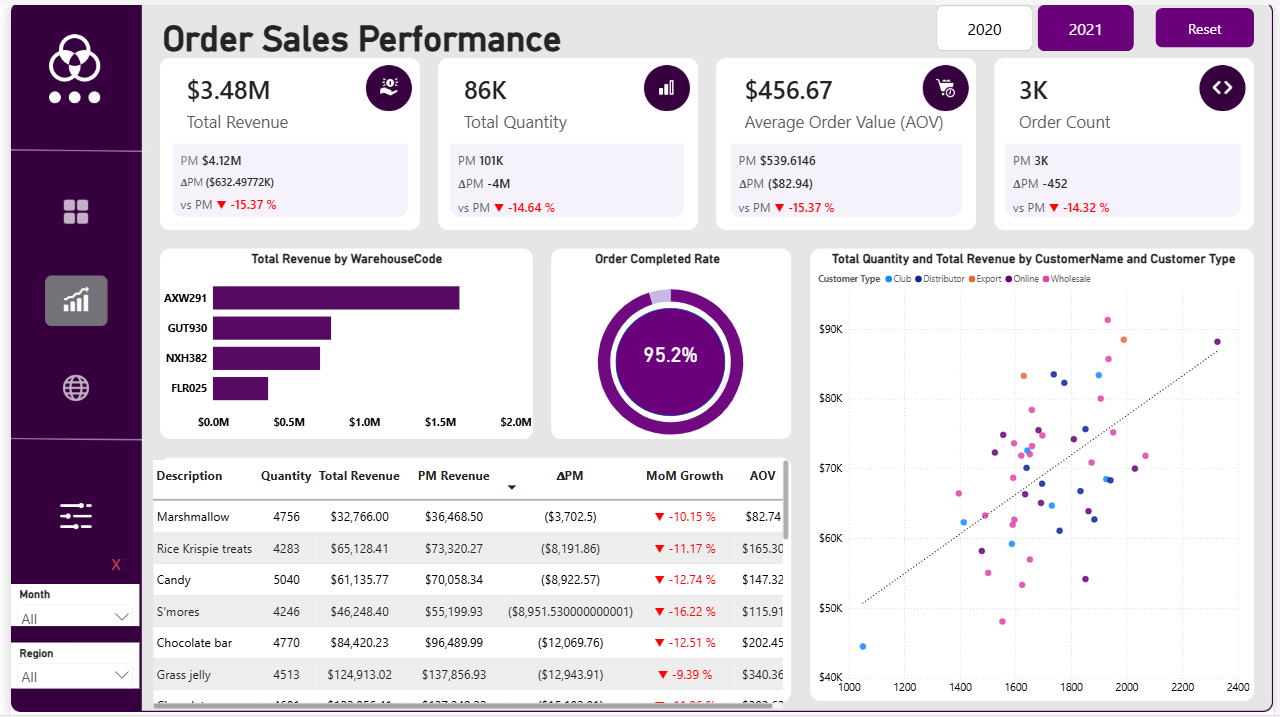

The page's visual inventory and layout, read from the dashboard file:
{"tool":"powerbi","page":{"name":"Performance","canvas":[1920,1080],"ordinal":1},"visuals":[{"type":"clusteredBarChart","fields":{"Y":["Calculated Measures.Total Revenue"],"Category":["Order_DIM.WarehouseCode"]},"box":[226.7,374.6,570.2,281.5],"z":0},{"type":"actionButton","box":[33.5,527.2,149.3,115.8],"z":0,"group":"g2"},{"type":"slicer","fields":{"Values":["Date.Month"]},"box":[0,880.8,195,64],"z":0,"group":"g1"},{"type":"scatterChart","fields":{"X":["Calculated Measures.Total Quantity"],"Y":["Calculated Measures.Total Revenue"],"Category":["Customers_DIM.CustomerName"],"Series":["Customers_DIM.Customer Type"]},"box":[1224,374.6,665.7,684.8],"z":1000},{"type":"actionButton","box":[48.8,728.4,100.6,91.4],"z":1000,"group":"g2"},{"type":"slicer","fields":{"Values":["Region.Region"]},"box":[0,969.2,195,70.1],"z":1000,"group":"g1"},{"type":"actionButton","box":[26.4,399.6,155.1,90.7],"z":2000,"group":"g2"},{"type":"tableEx","fields":{"Values":["Order_DIM.ProductDescription","Calculated Measures.Total Quantity","Calculated Measures.Total Revenue","Calculated Measures.PM Revenue","Calculated Measures.Rev Var","Calculated Measures.MoM_Rev","Calculated Measures.Average Order Value (AOV)"]},"box":[210,687.1,978.2,388.9],"z":2000},{"type":"cardVisual","fields":{"Data":["Calculated Measures.Total Revenue"]},"box":[226.7,74,398.4,269.6],"z":3000},{"type":"actionButton","box":[35,257.4,150.3,105],"z":3000,"group":"g2"},{"type":"cardVisual","fields":{"Data":["Calculated Measures.Total Quantity"]},"box":[649,74,396.1,269.6],"z":4000},{"type":"cardVisual","fields":{"Data":["Calculated Measures.Order Count"]},"box":[1491.2,74,398.4,269.6],"z":5000},{"type":"cardVisual","fields":{"Data":["Calculated Measures.Average Order Value (AOV)"]},"box":[1073.7,74,391.3,269.6],"z":6000},{"type":"shape","box":[901.9,434.2,193.3,190.9],"z":7000},{"type":"shape","box":[918.6,460.5,167,164.6],"z":8000},{"type":"card","fields":{"Values":["Calculated Measures.Order Completed Rate"]},"box":[906.6,429.5,193.3,200.4],"z":9000},{"type":"donutChart","fields":{"Y":["Calculated Measures.Order Completed Rate","Calculated Measures.Order Cancelled Rate"]},"box":[816,398.4,372.2,281.5],"z":10000},{"type":"textbox","title":"Order Completed Rate","box":[847,374.6,274.4,85.9],"z":11000},{"type":"advancedSlicerVisual","fields":{"Values":["Date.Year"]},"box":[1407.5,0,300,70],"z":13000},{"type":"actionButton","title":"Reset","box":[1740,5,150,60],"z":14000},{"type":"textbox","title":"Order Sales Performance","box":[225.5,0,704,91.4],"z":15000},{"type":"actionButton","title":"X close Performance","box":[109.7,819.8,100.6,61],"z":16000},{"type":"group","id":"g1","title":"Slicer Performance","box":[0,880.8,195,158.5],"z":17000},{"type":"group","id":"g2","title":"Group 2","box":[26.4,257.4,158.9,562.4],"z":18000}]}

Visuals, with their boxes on the page's 1920x1080 design canvas (x1, y1, x2, y2). These are canvas units, not pixel positions in the 1280x717 screenshot, which may show the page scaled, cropped or inside an application window:
clusteredBarChart - Calculated Measures.Total Revenue x Order_DIM.WarehouseCode: crop(227, 375, 797, 656)
actionButton: crop(34, 527, 183, 643)
slicer - Date.Month: crop(0, 881, 195, 945)
scatterChart - Calculated Measures.Total Quantity x Calculated Measures.Total Revenue: crop(1224, 375, 1890, 1059)
actionButton: crop(49, 728, 149, 820)
slicer - Region.Region: crop(0, 969, 195, 1039)
actionButton: crop(26, 400, 182, 490)
tableEx - Order_DIM.ProductDescription x Calculated Measures.Total Quantity: crop(210, 687, 1188, 1076)
cardVisual - Calculated Measures.Total Revenue: crop(227, 74, 625, 344)
actionButton: crop(35, 257, 185, 362)
cardVisual - Calculated Measures.Total Quantity: crop(649, 74, 1045, 344)
cardVisual - Calculated Measures.Order Count: crop(1491, 74, 1890, 344)
cardVisual - Calculated Measures.Average Order Value (AOV): crop(1074, 74, 1465, 344)
shape: crop(902, 434, 1095, 625)
shape: crop(919, 460, 1086, 625)
card - Calculated Measures.Order Completed Rate: crop(907, 430, 1100, 630)
donutChart - Calculated Measures.Order Completed Rate x Calculated Measures.Order Cancelled Rate: crop(816, 398, 1188, 680)
"Order Completed Rate" textbox: crop(847, 375, 1121, 460)
advancedSlicerVisual - Date.Year: crop(1408, 0, 1708, 70)
"Reset" actionButton: crop(1740, 5, 1890, 65)
"Order Sales Performance" textbox: crop(226, 0, 930, 91)
"X close Performance" actionButton: crop(110, 820, 210, 881)
"Slicer Performance" group: crop(0, 881, 195, 1039)
"Group 2" group: crop(26, 257, 185, 820)
